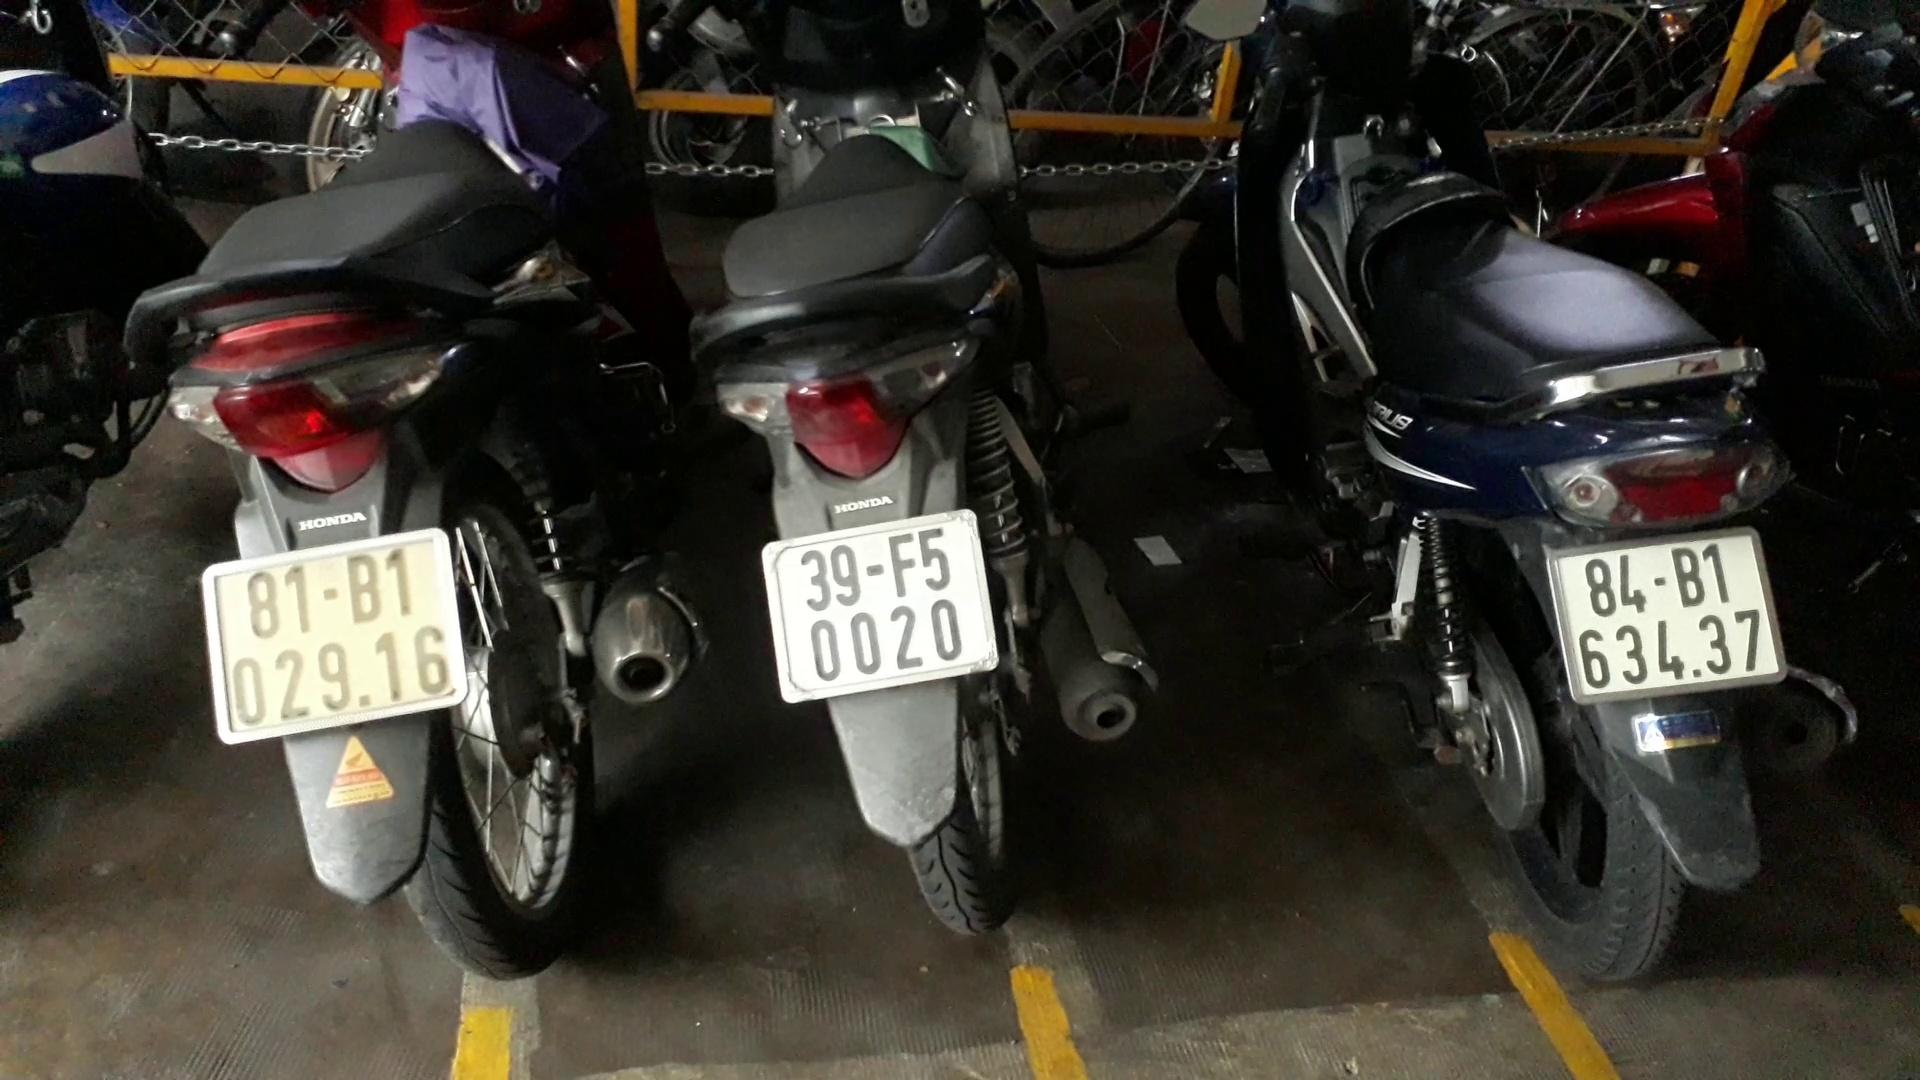numplate: (178, 522, 483, 751), (757, 509, 1006, 712), (1540, 537, 1823, 700)
